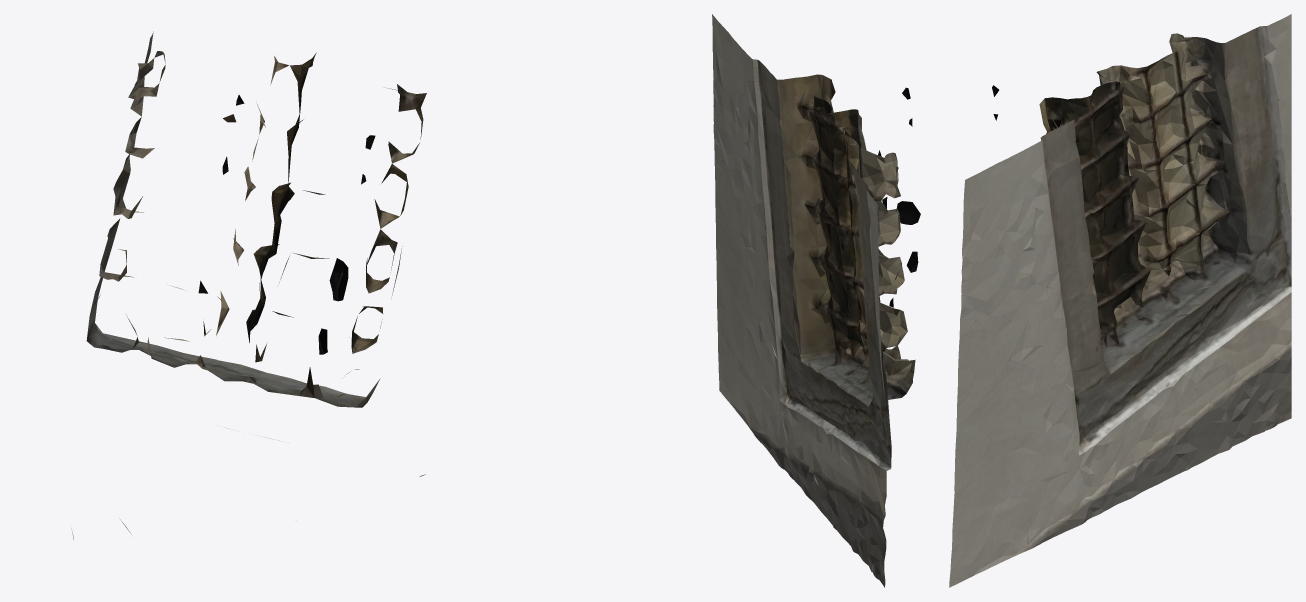
The picture shows the model from 3 angles, left to right: view 1: azimuth 30°, elevation 25°; view 2: azimuth 150°, elevation 25°; view 3: azimuth 270°, elevation 25°; orthographic projection. The views are drawn at different scales.
Bounding box in the file's own units: 1.52 × 1.67 × 1.27.
Materials: 4 (4 with a texture image).
